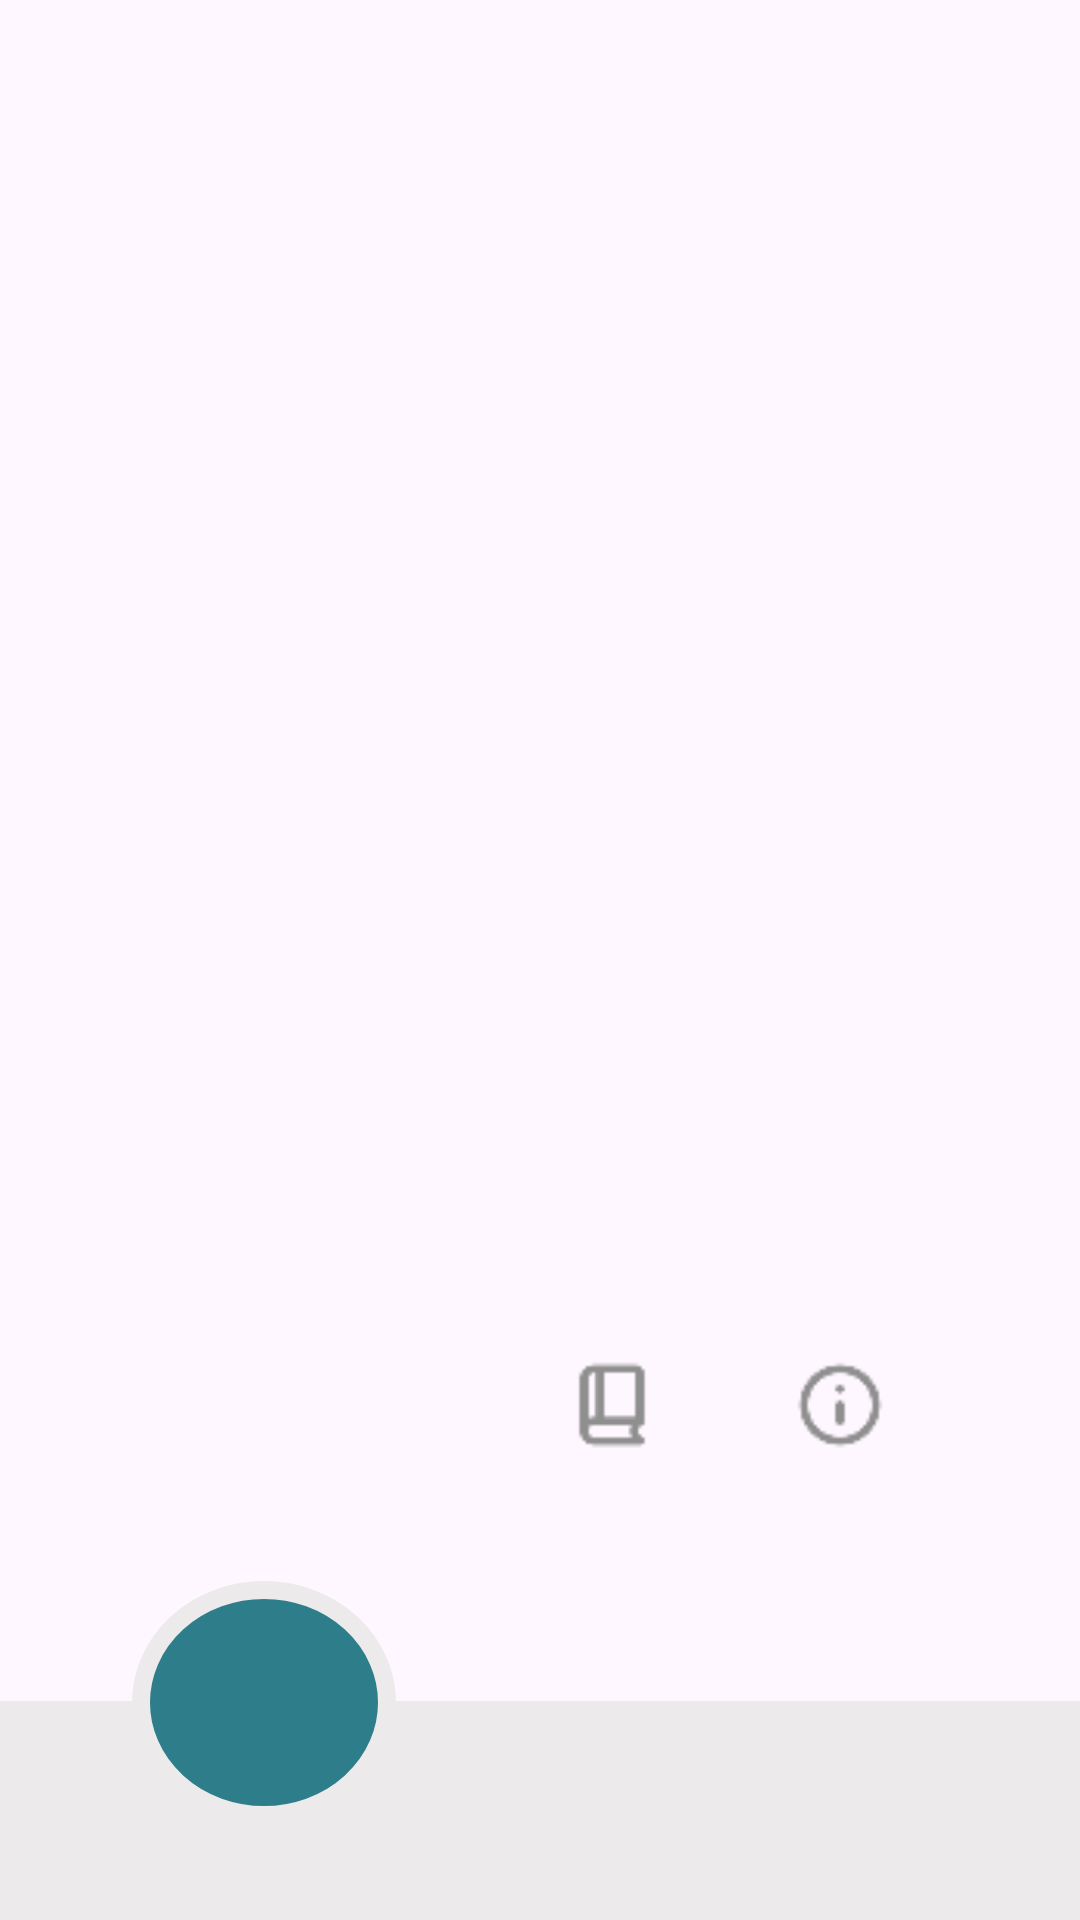

Icons on this 1080*1920 Android screen, each with the point to tap as [x,y]:
book: [612,1405]
info: [840,1405]
